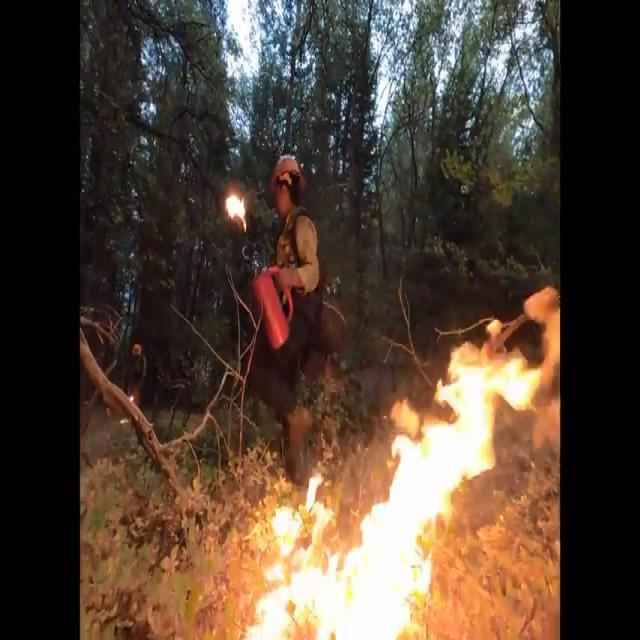Fire: (246, 332, 545, 638), (220, 186, 252, 228)
